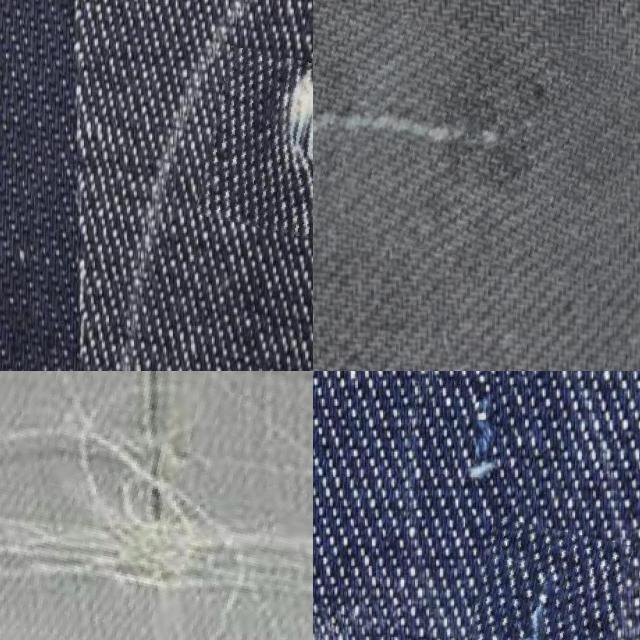stains: (313, 1, 638, 265), (0, 371, 313, 640), (203, 54, 313, 242), (463, 522, 623, 640), (416, 371, 538, 508)
